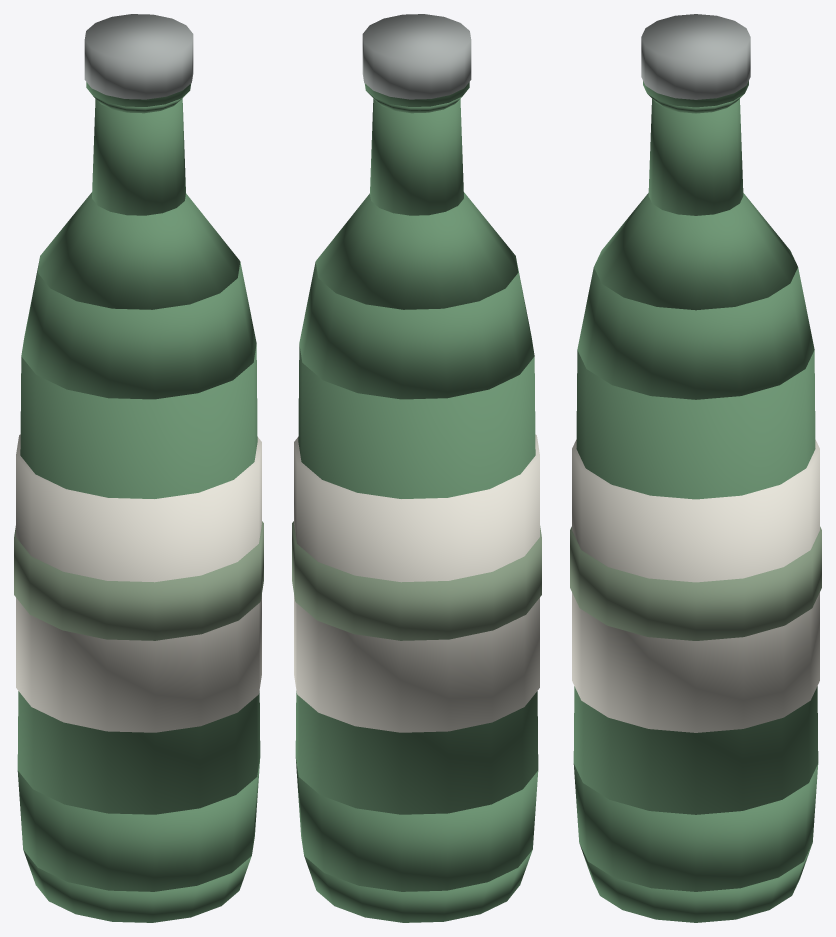
File: pfand-bottle.glb
3 views of the same model, side by side, from view 1: azimuth 30°, elevation 25°; view 2: azimuth 150°, elevation 25°; view 3: azimuth 270°, elevation 25° (orthographic).
Parts seen in each view (by area): view 1: pfand-bottle; view 2: pfand-bottle; view 3: pfand-bottle.
Boxes of the visible parts, x1,y1,x2,y2 form: pfand-bottle: [14, 14, 263, 922]; pfand-bottle: [292, 14, 541, 922]; pfand-bottle: [570, 14, 821, 922].
Size of the model in its own units: 0.138 by 0.509 by 0.138.
